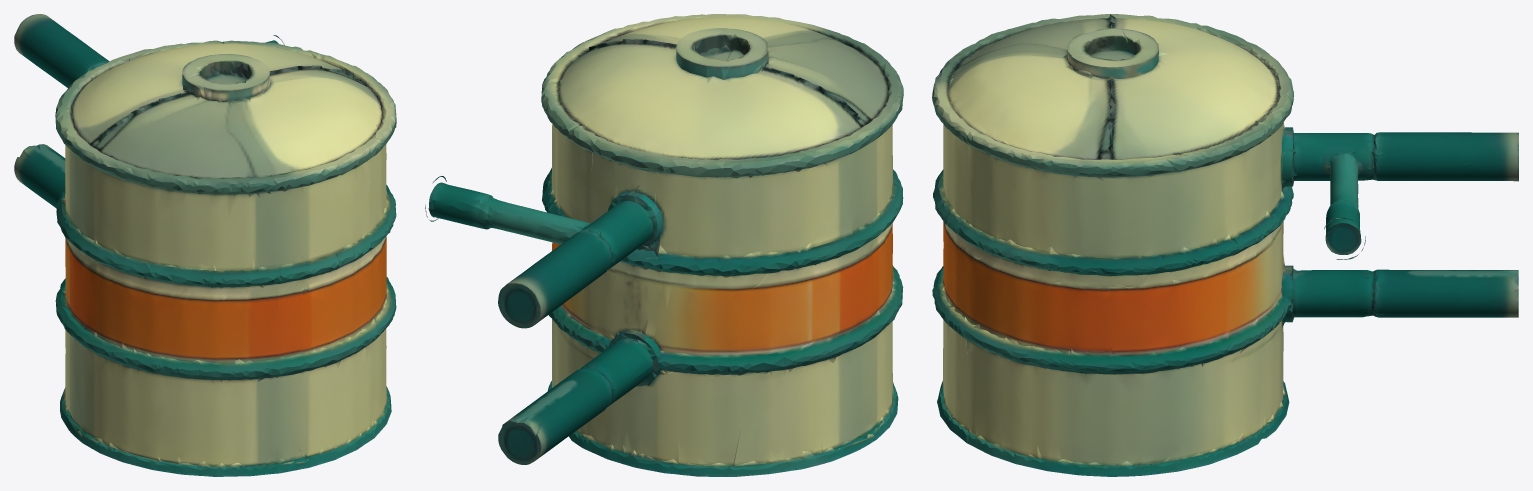
Rendered from Fuel_Barrel.glb.
3 renders of one model, left to right at view 1: azimuth 30°, elevation 25°; view 2: azimuth 150°, elevation 25°; view 3: azimuth 270°, elevation 25°, orthographic. The views are drawn at different scales.
Visible parts, largest first — view 1: FuelBarrel; view 2: FuelBarrel; view 3: FuelBarrel.
Boxes of the visible parts, x1,y1,x2,y2 form: FuelBarrel: (14, 14, 396, 476); FuelBarrel: (425, 14, 903, 476); FuelBarrel: (932, 14, 1518, 476).
Bounding box in the file's own units: 1.22 × 1.26 × 1.89.
1 material, 1 textured.
